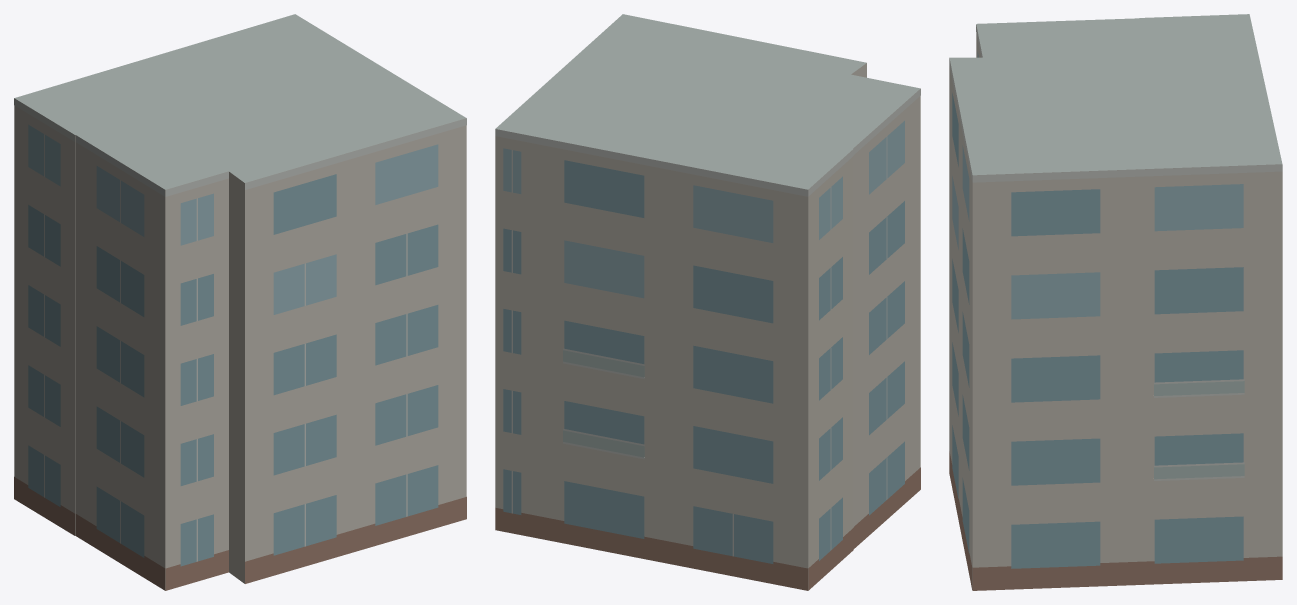
The model's file is survey-upis-32899599.glb.
3 views of the same model, side by side, from view 1: azimuth 30°, elevation 25°; view 2: azimuth 150°, elevation 25°; view 3: azimuth 270°, elevation 25° (orthographic). The views are drawn at different scales.
Parts seen in each view (by area): view 1: survey-upis-32899599.tmp; view 2: survey-upis-32899599.tmp; view 3: survey-upis-32899599.tmp.
Part boxes in pixels (<box>): survey-upis-32899599.tmp: <box>14,14,466,590</box>; survey-upis-32899599.tmp: <box>495,14,920,590</box>; survey-upis-32899599.tmp: <box>949,14,1282,590</box>.
Size of the model in its own units: 11.5 by 13.8 by 10.03.
